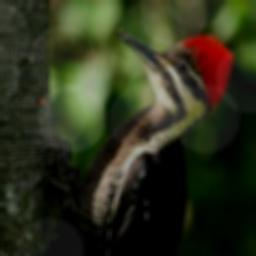Woodpecker: (45, 27, 232, 256)
